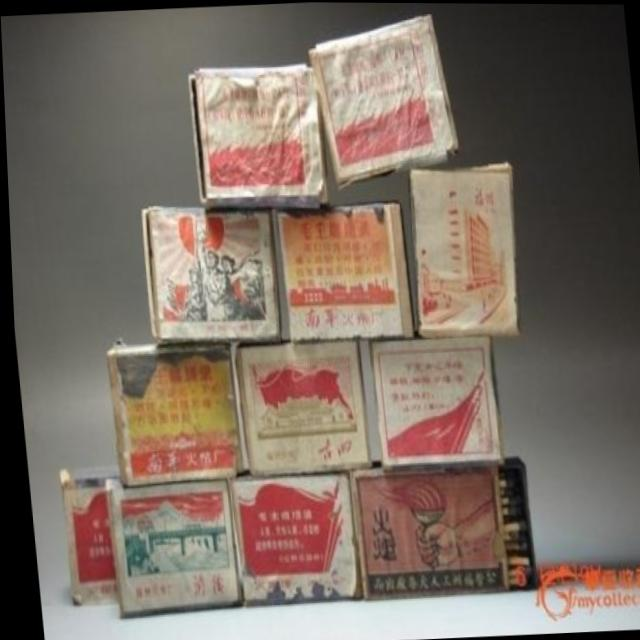box: (345, 456, 534, 602), (307, 12, 459, 187), (101, 343, 242, 489), (188, 64, 328, 206), (273, 201, 413, 343), (138, 208, 276, 347), (103, 478, 237, 619), (409, 162, 517, 336), (231, 342, 367, 479), (225, 471, 357, 606), (367, 338, 501, 468), (55, 467, 114, 604)
